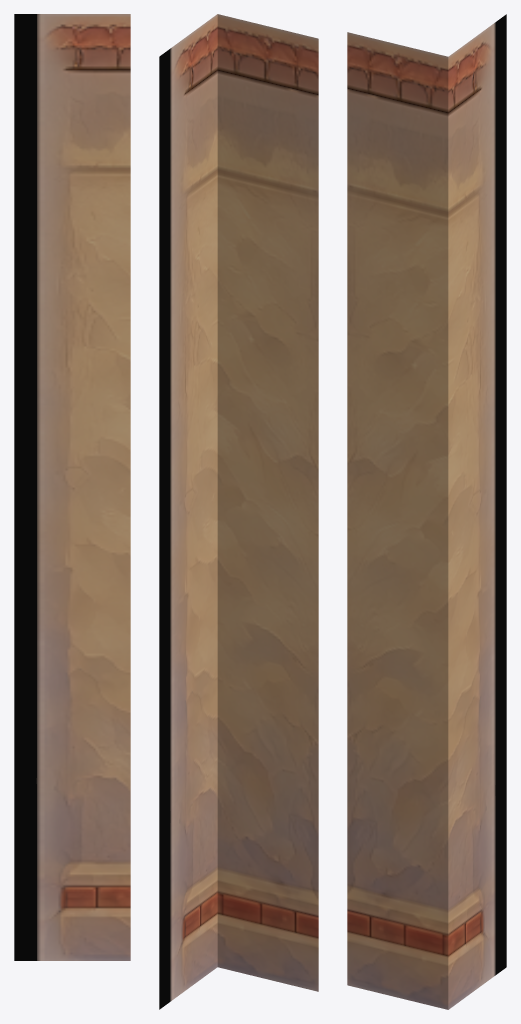
Rendered from MSN_Corner_G.fbx.
The picture shows the model from 3 angles, left to right: view 1: azimuth 90°, elevation 25°; view 2: azimuth 150°, elevation 25°; view 3: azimuth 330°, elevation 25°; orthographic projection.
Parts seen in each view (by area): view 1: MSN_Corner_G; view 2: MSN_Corner_G; view 3: MSN_Corner_G.
Boxes of the visible parts, x1=… form: MSN_Corner_G: x1=14, y1=14, x2=130, y2=960; MSN_Corner_G: x1=159, y1=14, x2=318, y2=1009; MSN_Corner_G: x1=347, y1=14, x2=506, y2=1009.
Size of the model in its own units: 0.5 by 0.5 by 4.5.
1 material, 1 textured.
